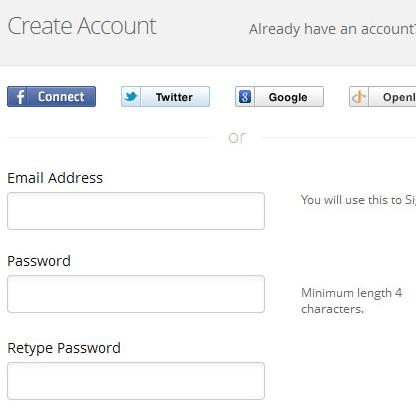button: (6, 84, 98, 109), (234, 85, 325, 107), (121, 85, 210, 107)
field: (6, 188, 266, 231), (5, 358, 265, 401), (8, 273, 265, 313)
